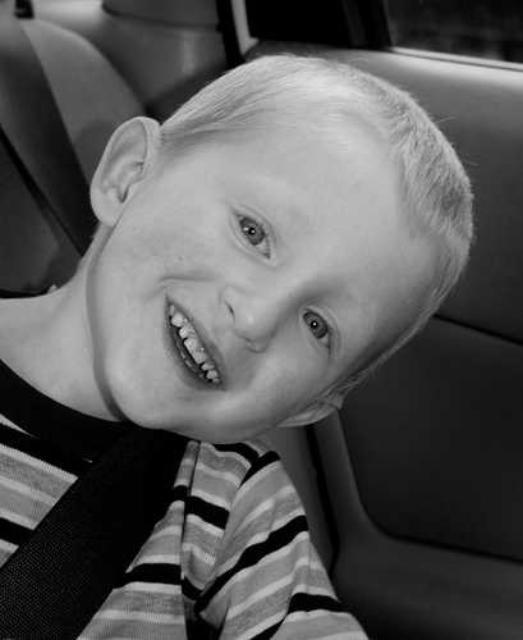SafeDriving: (222, 194, 285, 262), (291, 285, 344, 357)
Seatbelt: (3, 426, 194, 640)
